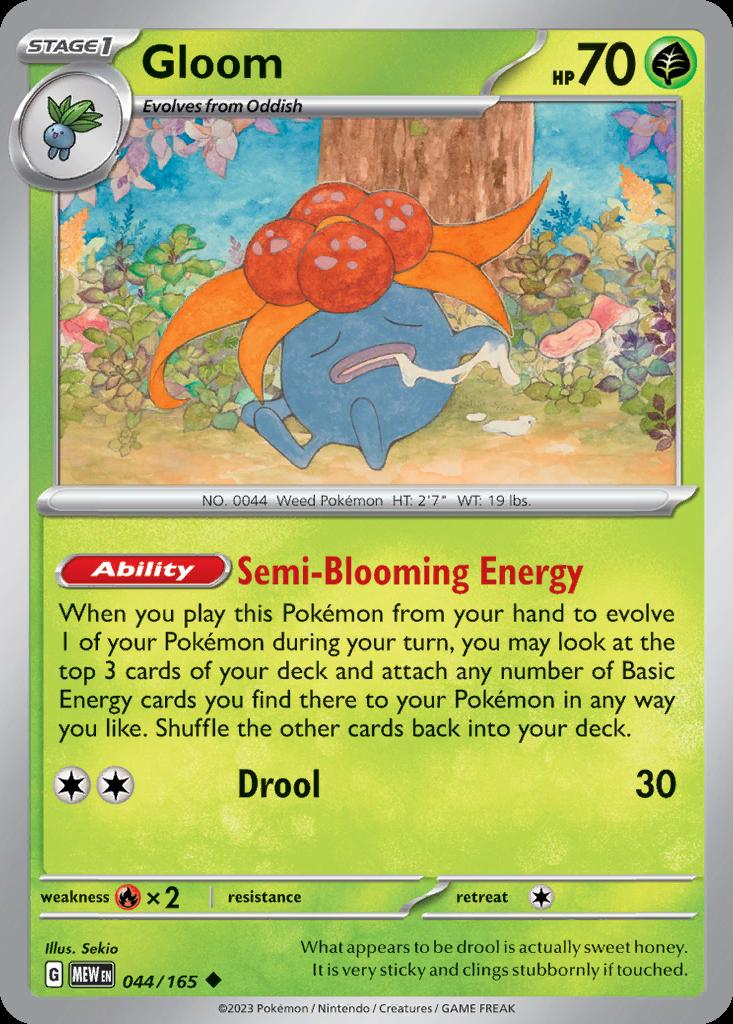card: (4, 4, 733, 1024)
hp: (529, 27, 694, 96)
name: (127, 33, 301, 91)
set num: (121, 963, 200, 993)
set symbol: (67, 956, 119, 993)
